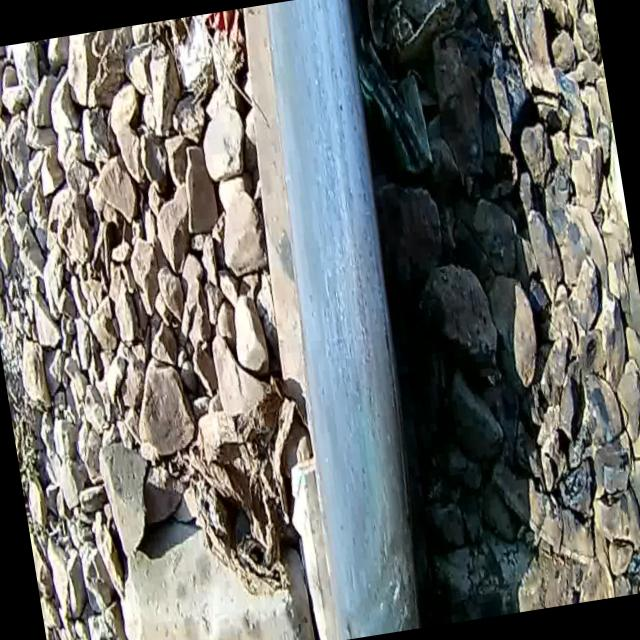Squats: (300, 505, 441, 640)
